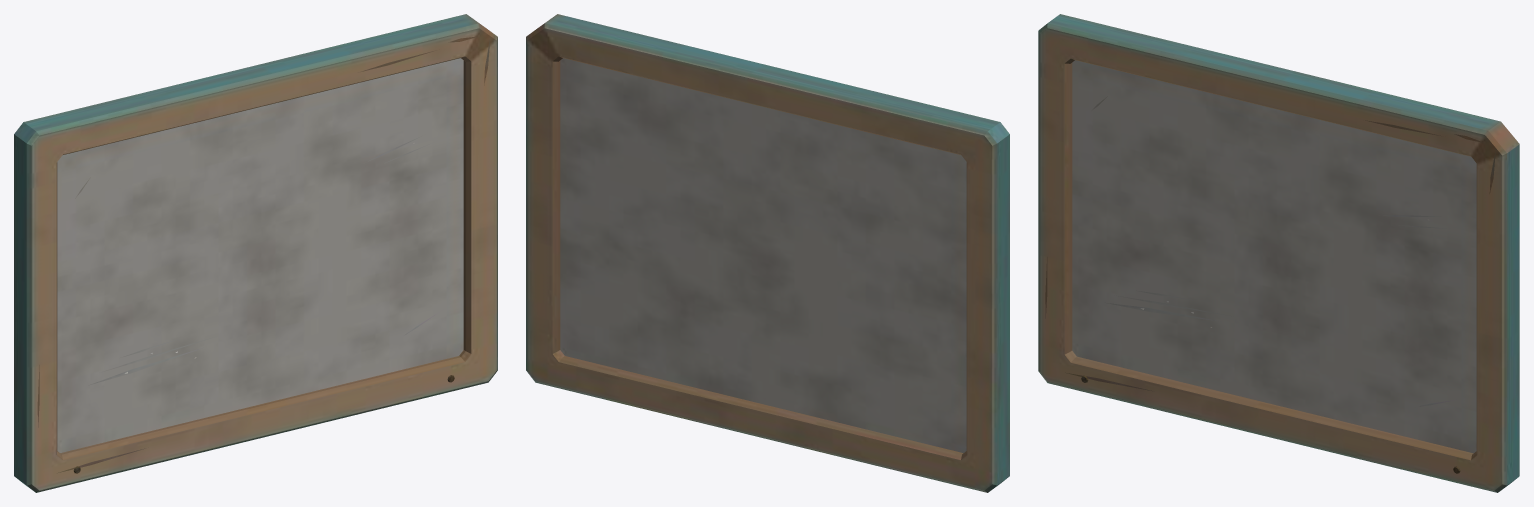
The model's file is SE11_slate_board.glb.
The picture shows the model from 3 angles, left to right: view 1: azimuth 30°, elevation 25°; view 2: azimuth 150°, elevation 25°; view 3: azimuth 330°, elevation 25°; orthographic projection.
Visible parts, largest first — view 1: School slate; view 2: School slate; view 3: School slate.
Part boxes in pixels (x1=…): School slate: x1=14, y1=14, x2=497, y2=492; School slate: x1=526, y1=14, x2=1009, y2=492; School slate: x1=1038, y1=14, x2=1519, y2=492.
Size of the model in its own units: 0.3 by 0.22 by 0.0188.
Materials: 7 (7 with a texture image).
